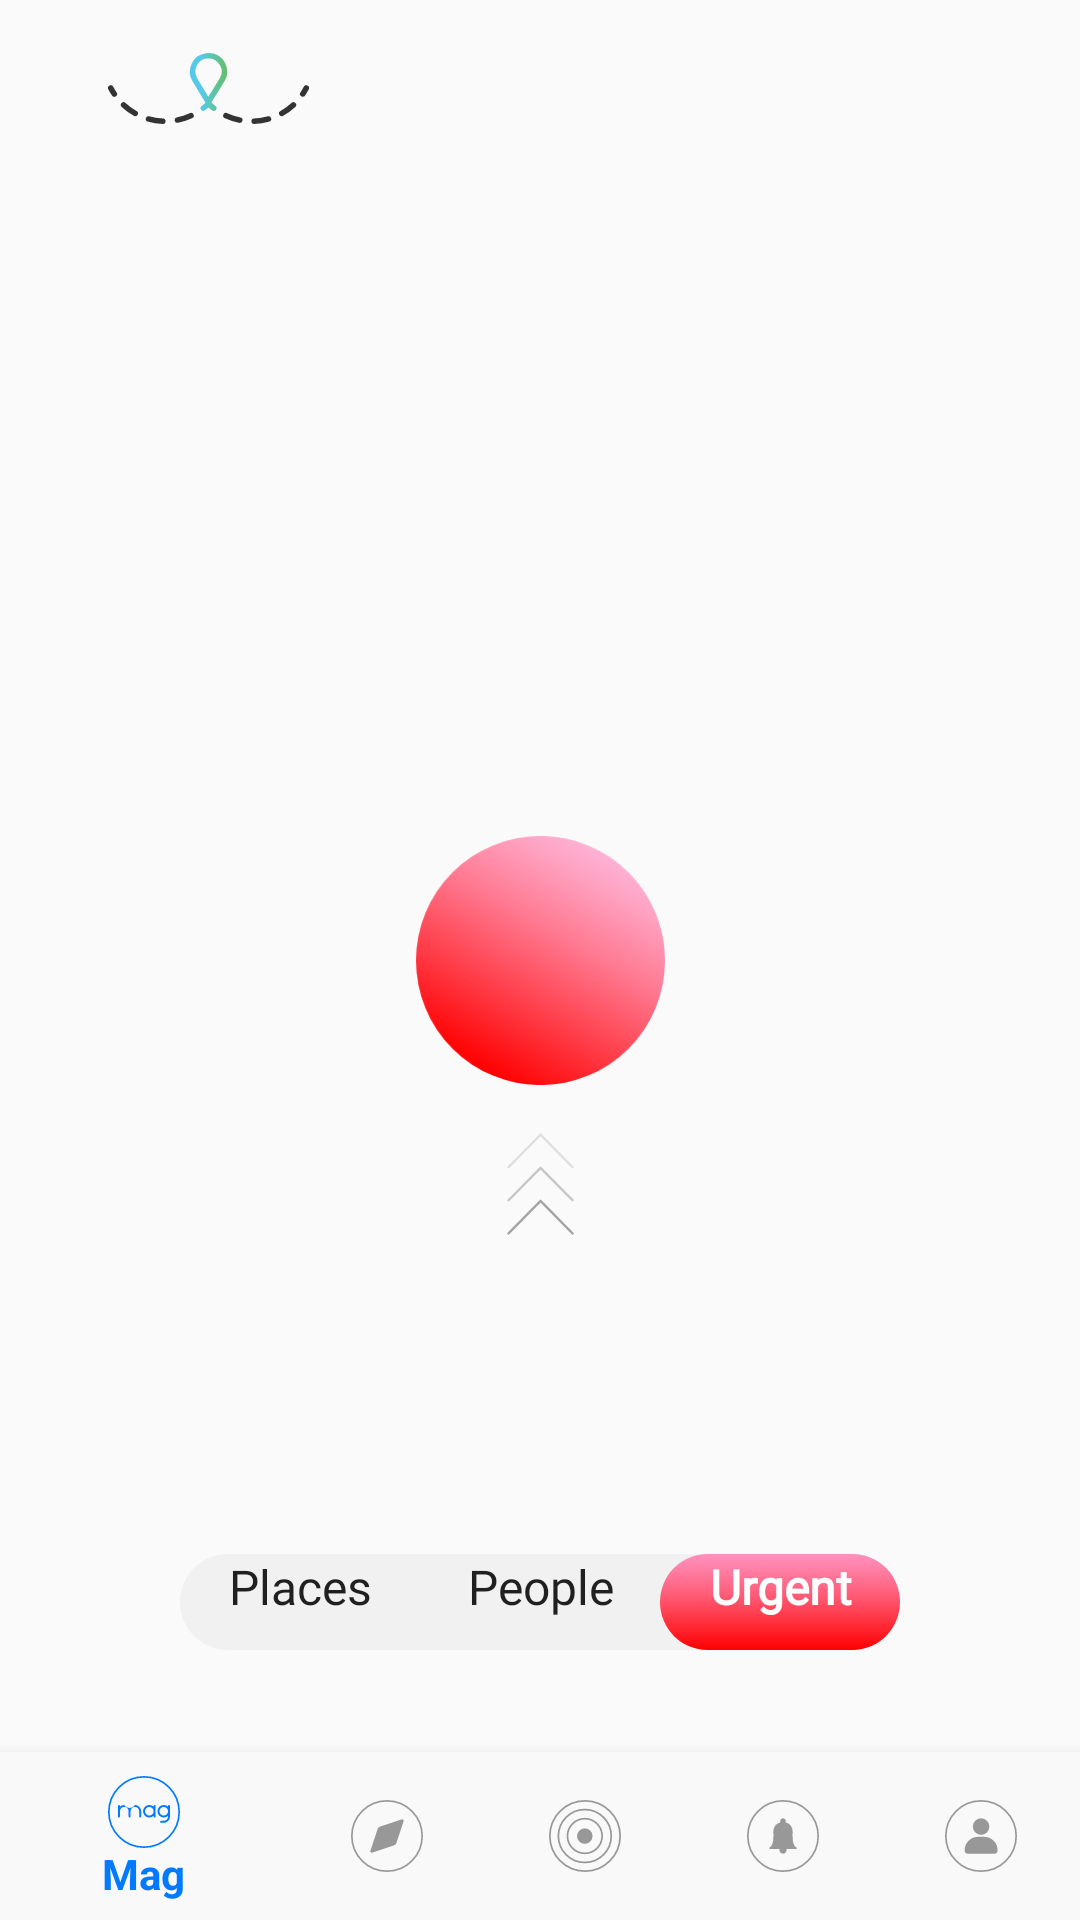

Where icons sit on this 1080px x 1920px app screen, as {"left": x1, "top": y1, "right": x2, "bottom": y2}:
arrows: {"left": 507, "top": 1134, "right": 574, "bottom": 1235}
